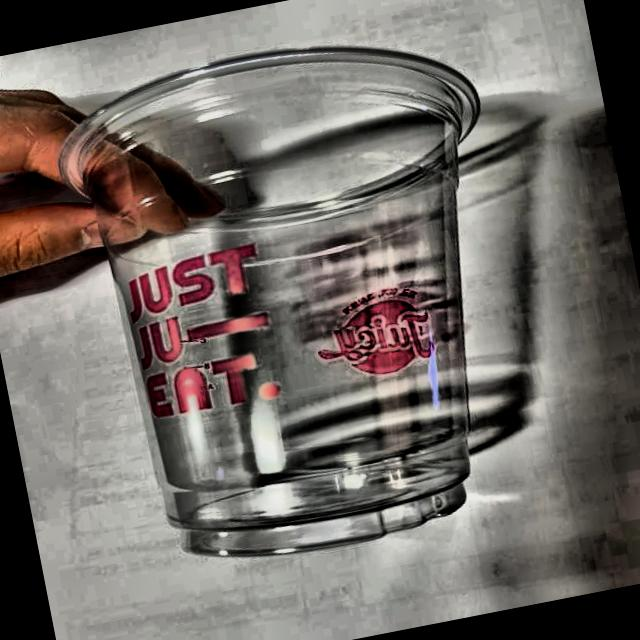plastic cup: (46, 9, 565, 592)
